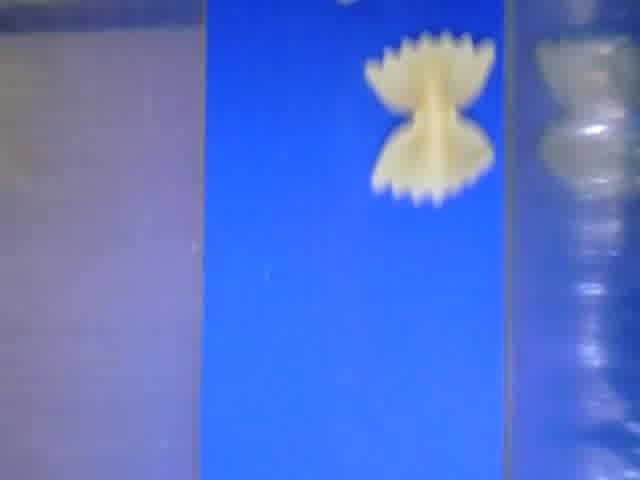farfalle: (362, 27, 498, 204)
